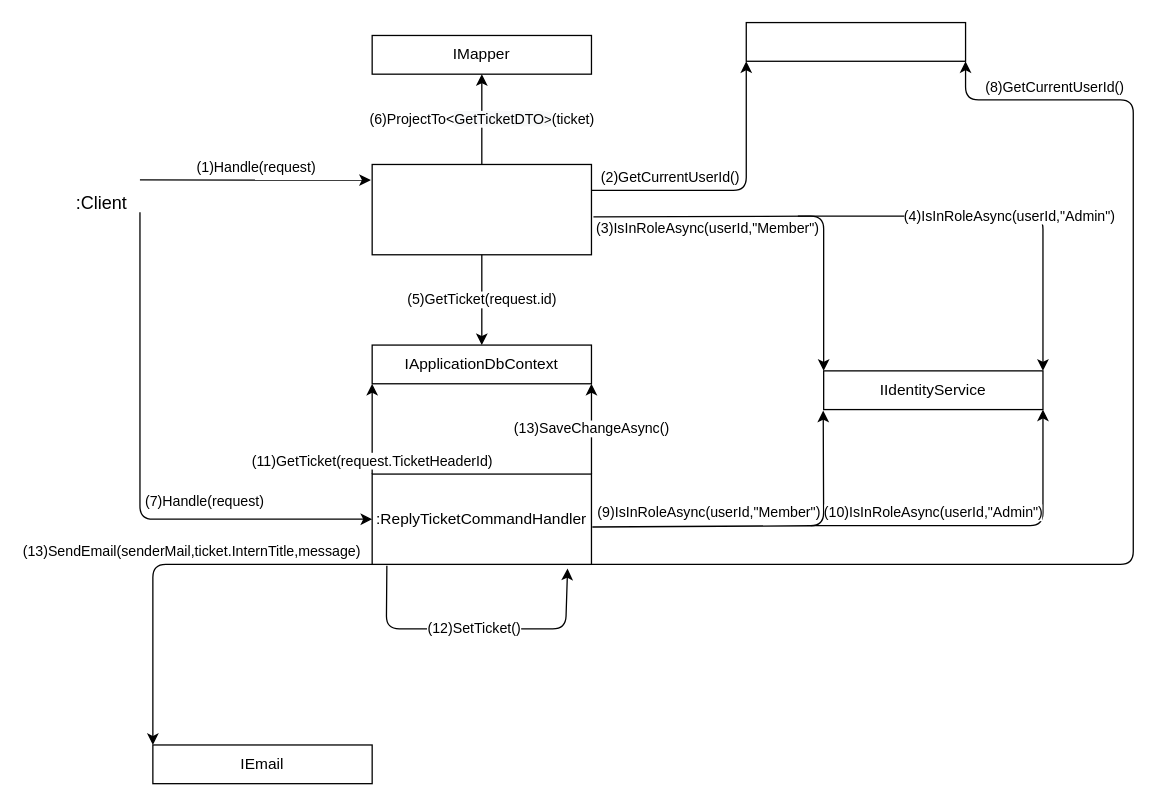
Image size: 1166x806. Some labels were removed from this diagram. The shapes that lost their labels are listed below. From the top down, each one's box as (x1, y1, x2, y2) in pixels, then its label:
(745, 21, 966, 61): ICurrentUserService
(371, 163, 591, 255): : GetTicketQueryHandler
